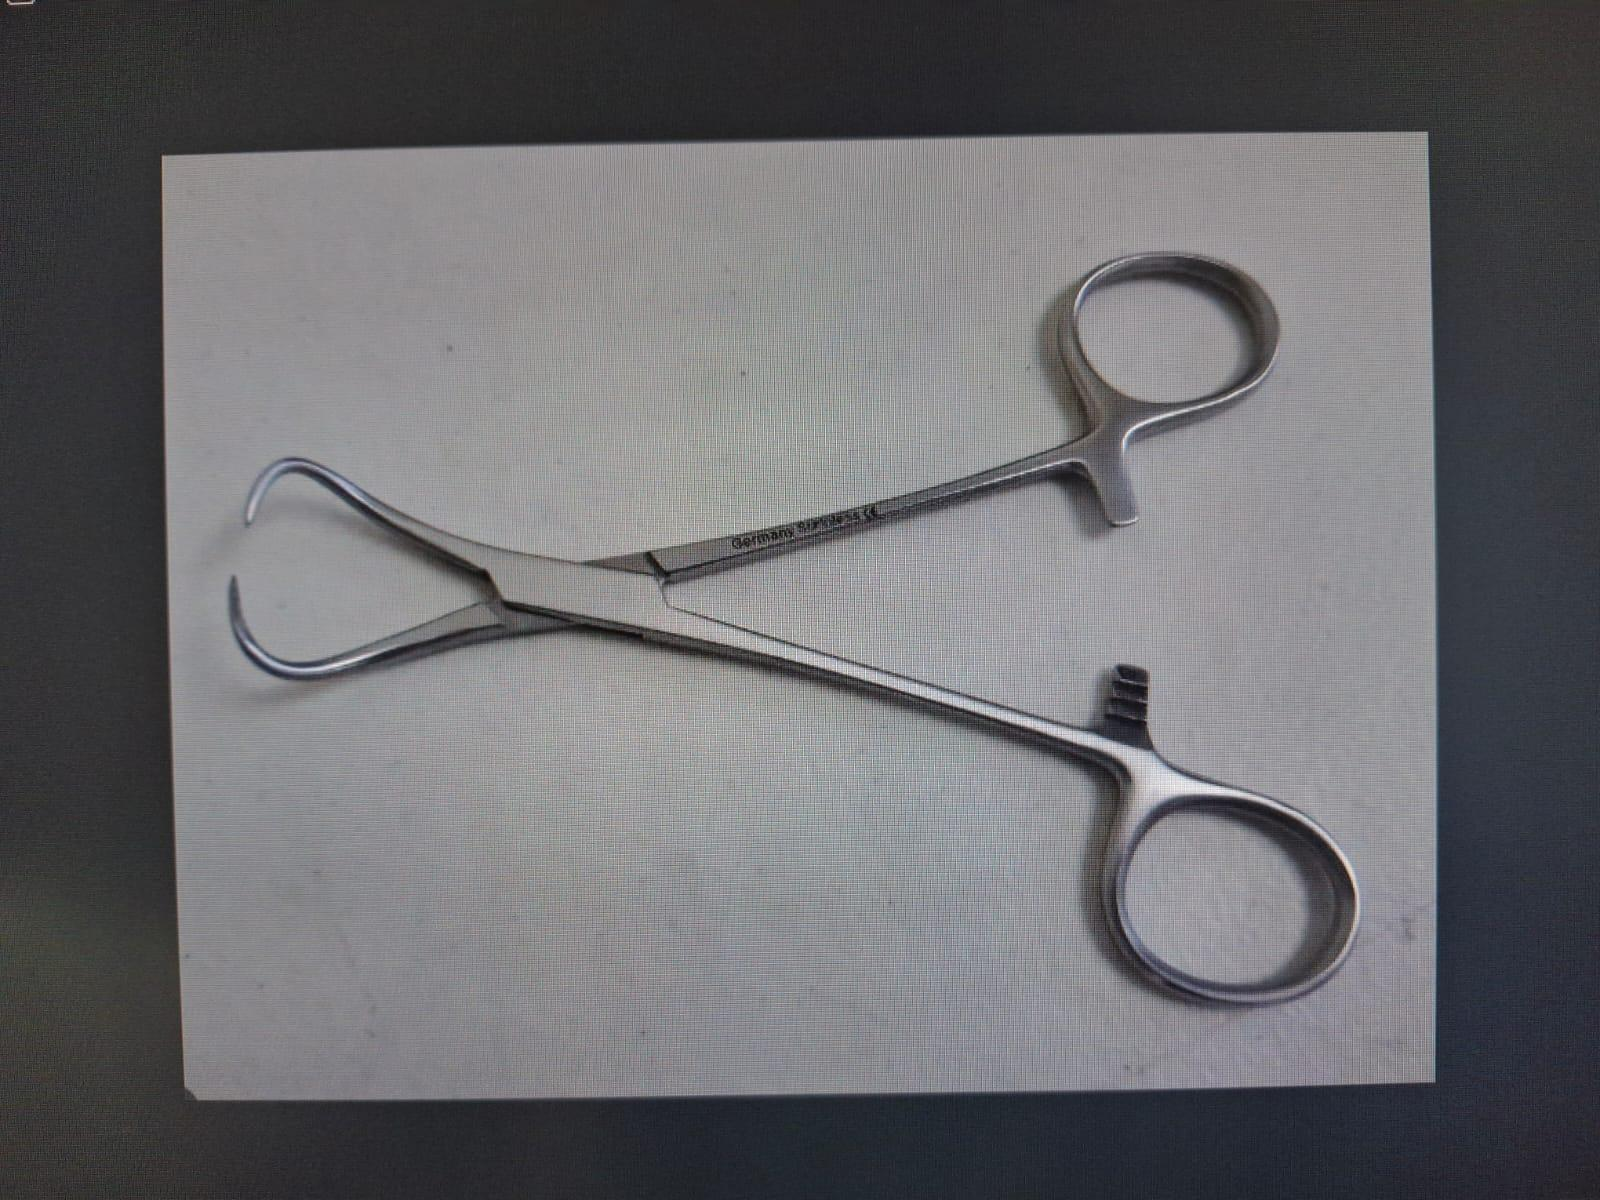Backhaus: (220, 238, 1376, 1034)
